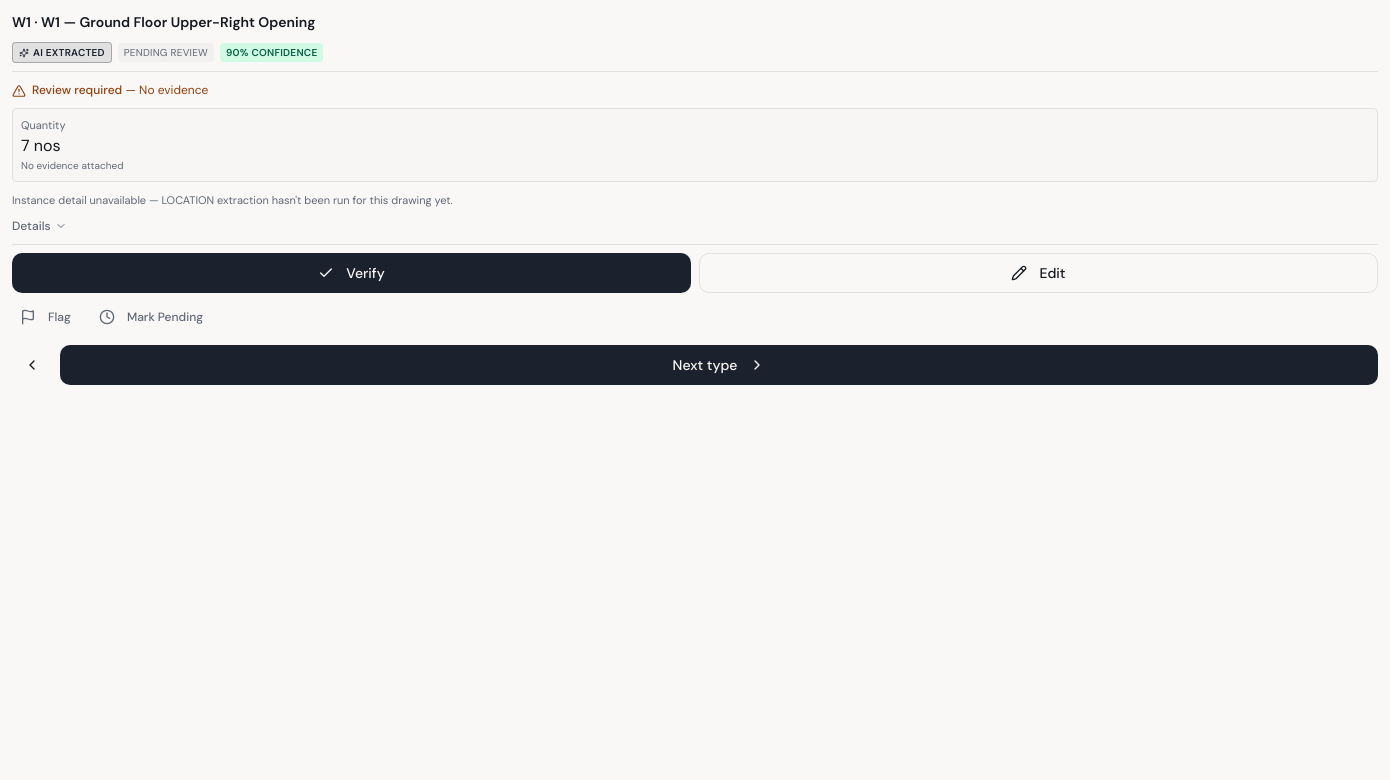
ItemPanel — claim selection › shows 'No evidence attached' (not a link) for a claim with no evidence
Click the button "Details": coordinates (39, 226) [12,218,67,234]
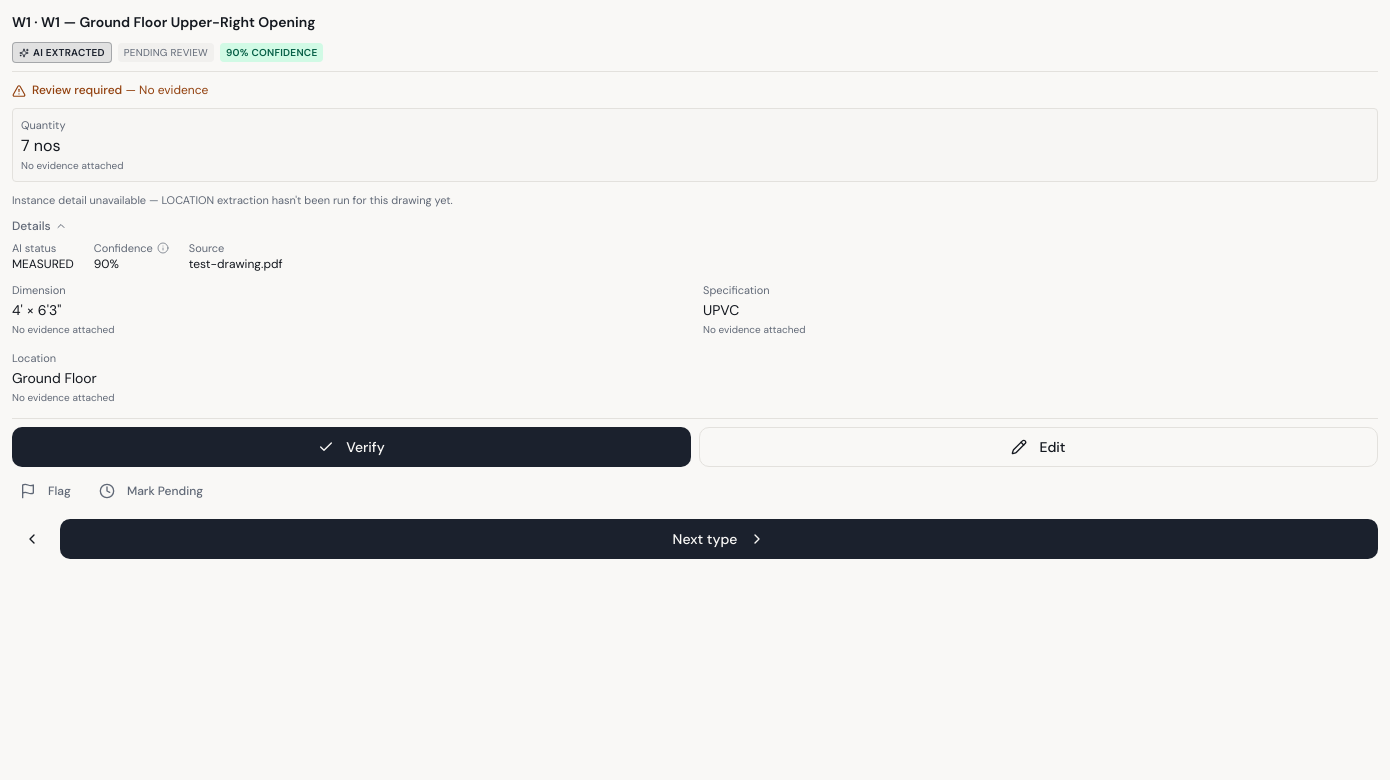
expect the text "No evidence attached" is shown 4 times: met, box [21,158,123,172]; [12,323,114,336]; [703,323,805,336]; [12,391,114,404]
